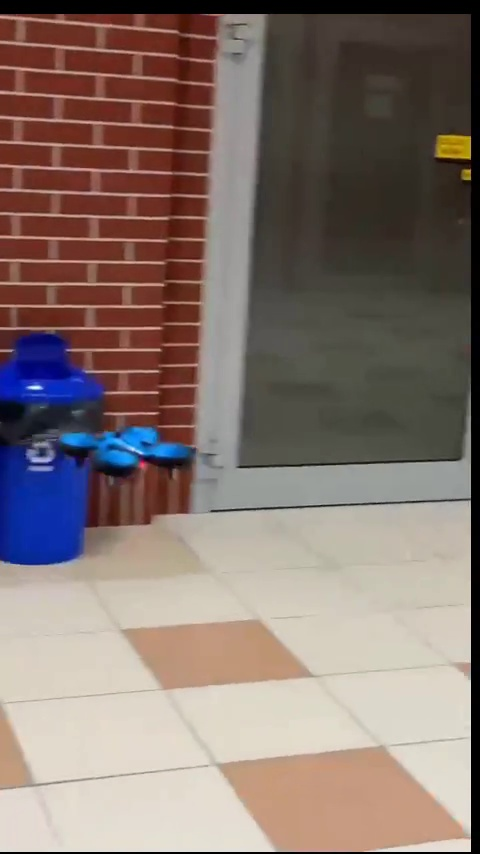drone: (56, 423, 193, 486)
